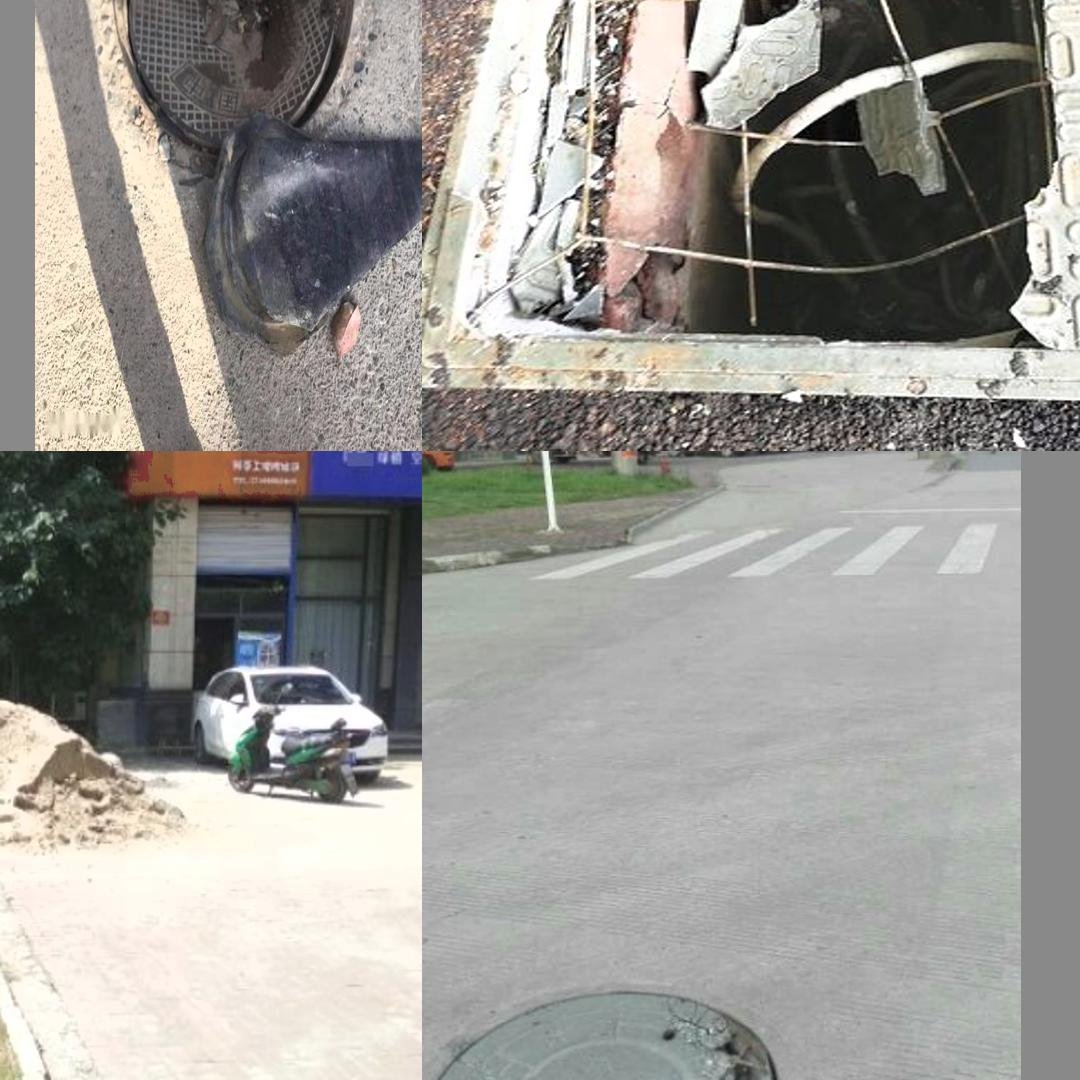broke: (441, 0, 1080, 423), (98, 0, 371, 157), (424, 992, 780, 1080)
